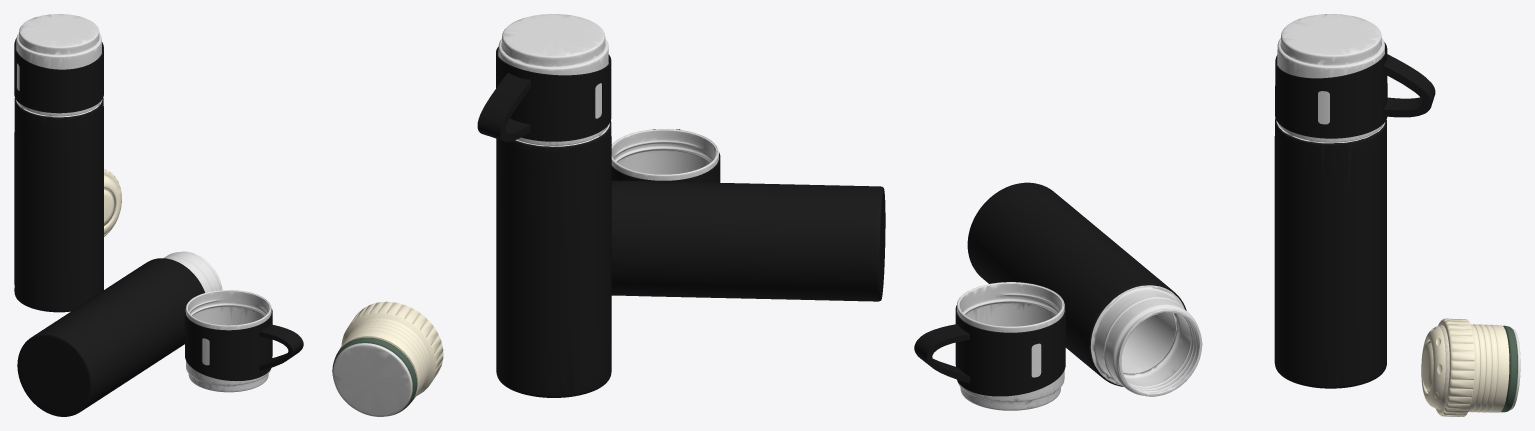
File: tea.glb
3 renders of one model, left to right at view 1: azimuth 30°, elevation 25°; view 2: azimuth 150°, elevation 25°; view 3: azimuth 270°, elevation 25°, orthographic. The views are drawn at different scales.
Parts seen in each view (by area): view 1: Object_6, Object_4, Object_12; view 2: Object_6, Object_4, Object_12; view 3: Object_6, Object_4, Object_12.
Part boxes in pixels (x1,y1,x2,y2): Object_6: [14, 38, 303, 416]; Object_4: [16, 14, 271, 392]; Object_12: [104, 169, 121, 236]; Object_6: [477, 47, 885, 397]; Object_4: [333, 14, 718, 416]; Object_12: [332, 301, 443, 416]; Object_6: [914, 42, 1435, 396]; Object_4: [957, 14, 1520, 410]; Object_12: [1421, 318, 1517, 416].
Size of the model in its own units: 2.42 by 2.36 by 3.91.
4 materials, 4 textured.
